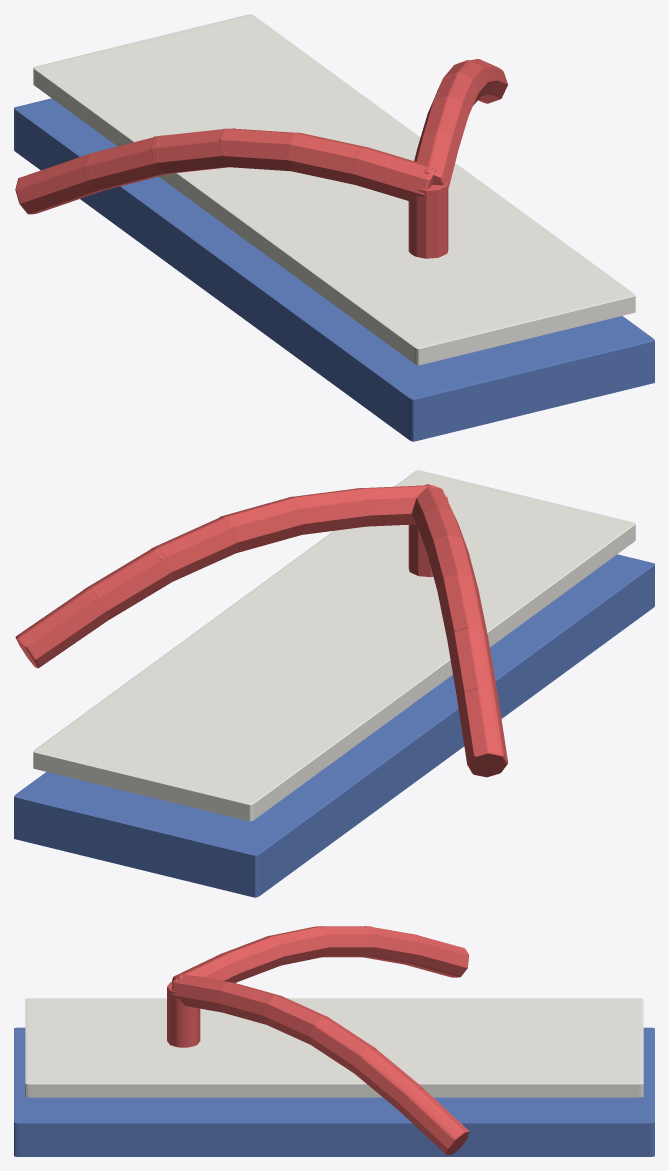
File: chancla.glb
3 renders of one model, top to bottom at view 1: azimuth 30°, elevation 25°; view 2: azimuth 150°, elevation 25°; view 3: azimuth 270°, elevation 25°, orthographic. The views are drawn at different scales.
Parts seen in each view (by area): view 1: chancla; view 2: chancla; view 3: chancla.
Boxes of the visible parts, x1,y1,x2,y2 form: chancla: [14, 14, 654, 441]; chancla: [14, 470, 654, 897]; chancla: [14, 926, 654, 1156].
Size of the model in its own units: 0.6 by 0.2101 by 0.85.
